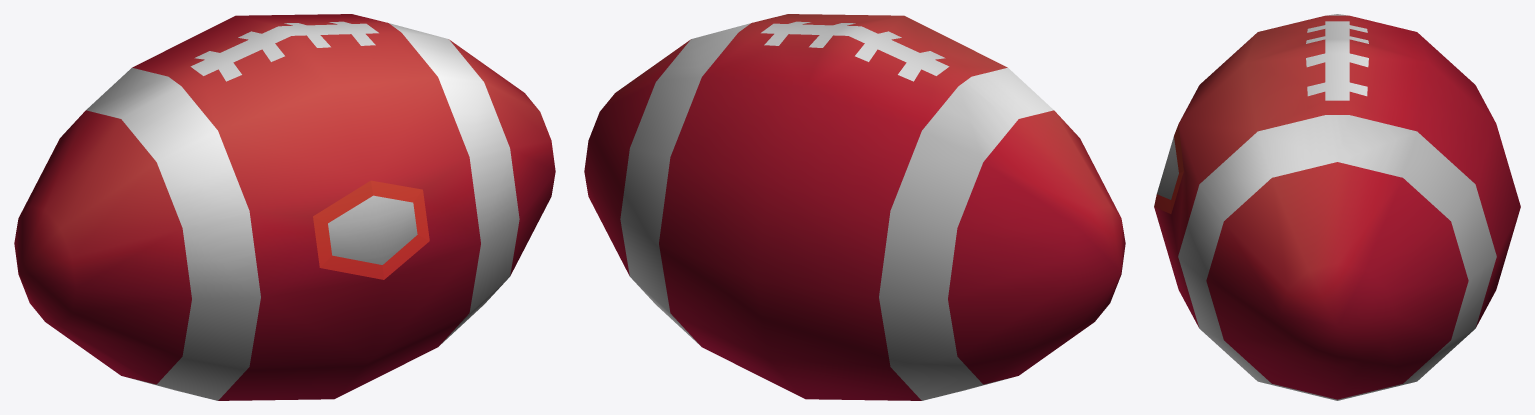
Rendered from CR_RugbyBall.FBX.
3 renders of one model, left to right at view 1: azimuth 30°, elevation 25°; view 2: azimuth 150°, elevation 25°; view 3: azimuth 270°, elevation 25°, orthographic. The views are drawn at different scales.
Visible parts, largest first — view 1: CR_RugbyBall; view 2: CR_RugbyBall; view 3: CR_RugbyBall.
Part boxes in pixels (left/top/right/bottom): CR_RugbyBall: left=14, top=14, right=555, bottom=400; CR_RugbyBall: left=584, top=14, right=1125, bottom=400; CR_RugbyBall: left=1154, top=14, right=1520, bottom=400.
Bounding box in the file's own units: 26.78 × 17.13 × 17.28.
